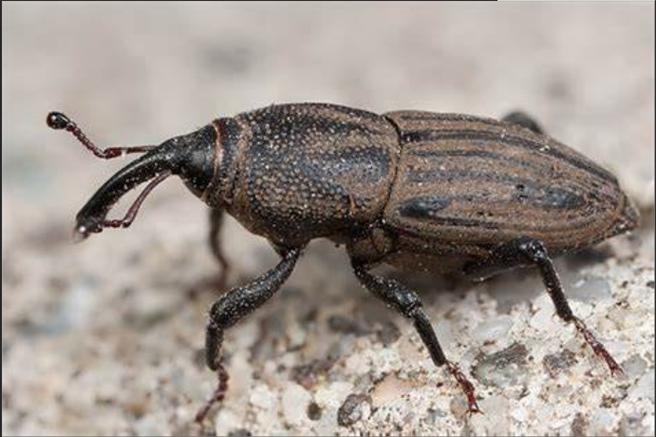Curculionidae: (45, 102, 641, 423)
